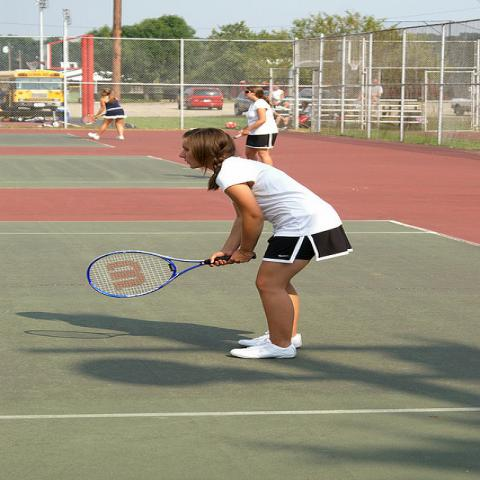bus: (2, 70, 68, 110)
car: (176, 87, 225, 109), (234, 91, 269, 116), (451, 98, 474, 116)
